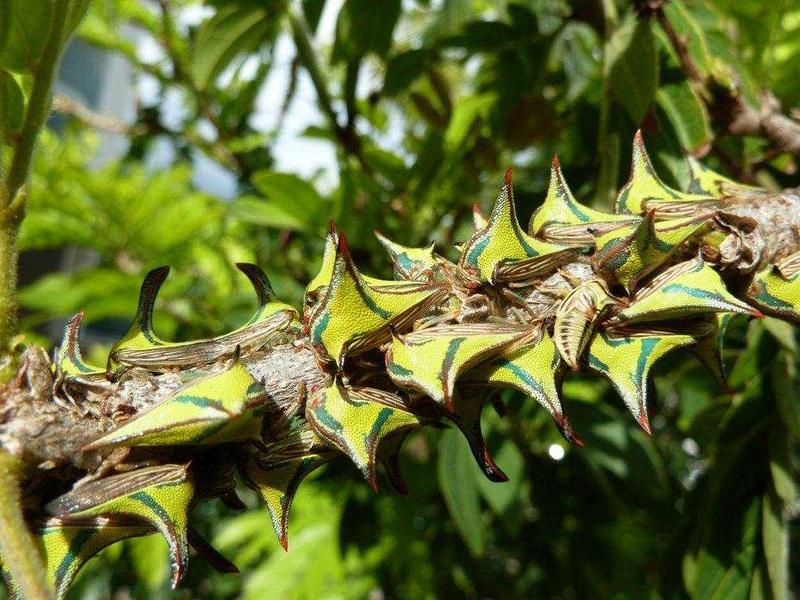Brown_plant_leafhopper: (110, 304, 343, 394), (37, 454, 203, 524), (526, 272, 620, 376)
